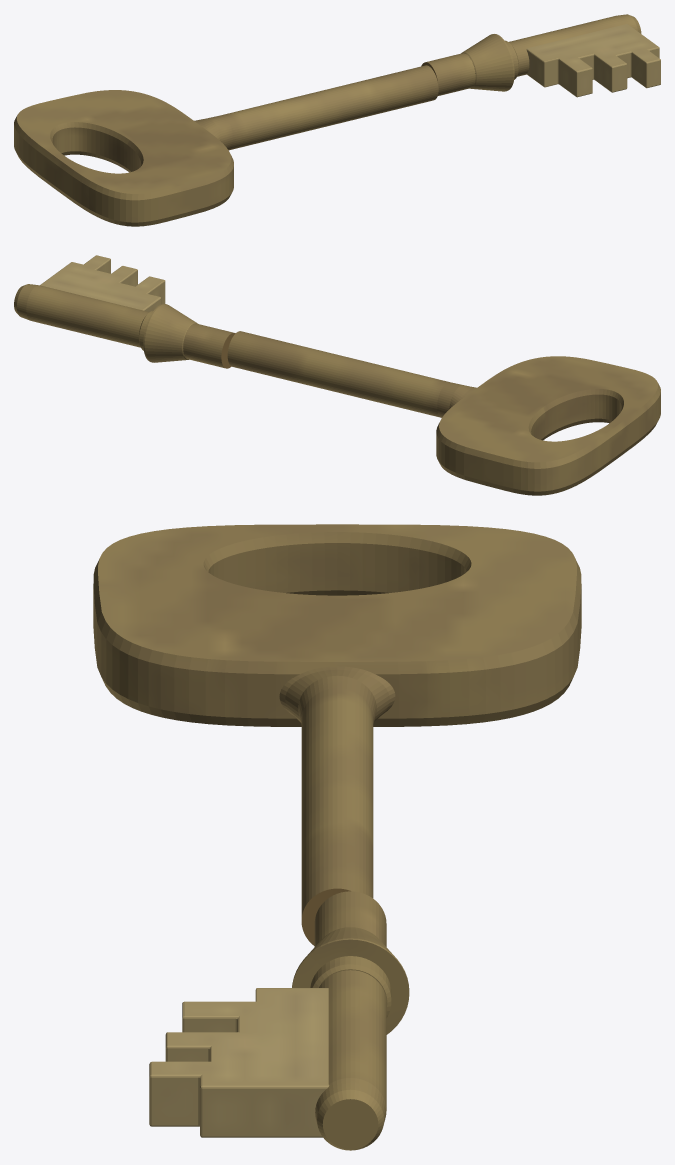
File: Cut_key_TwoFragments_M410.fbx
3 renders of one model, top to bottom at view 1: azimuth 30°, elevation 25°; view 2: azimuth 150°, elevation 25°; view 3: azimuth 270°, elevation 25°, orthographic. The views are drawn at different scales.
Visible parts, largest first — view 1: Cut_key_Fragment0, Cut_key_Fragment1; view 2: Cut_key_Fragment0, Cut_key_Fragment1; view 3: Cut_key_Fragment0, Cut_key_Fragment1.
Boxes of the visible parts, box(x1,y1,x2,y2) form: Cut_key_Fragment0: box(14, 65, 438, 226); Cut_key_Fragment1: box(421, 14, 660, 97); Cut_key_Fragment0: box(227, 331, 660, 495); Cut_key_Fragment1: box(14, 255, 235, 368); Cut_key_Fragment0: box(93, 524, 581, 945); Cut_key_Fragment1: box(149, 891, 409, 1150).
Size of the model in its own units: 82.4 by 7.2 by 29.85.
3 materials, 2 textured.
